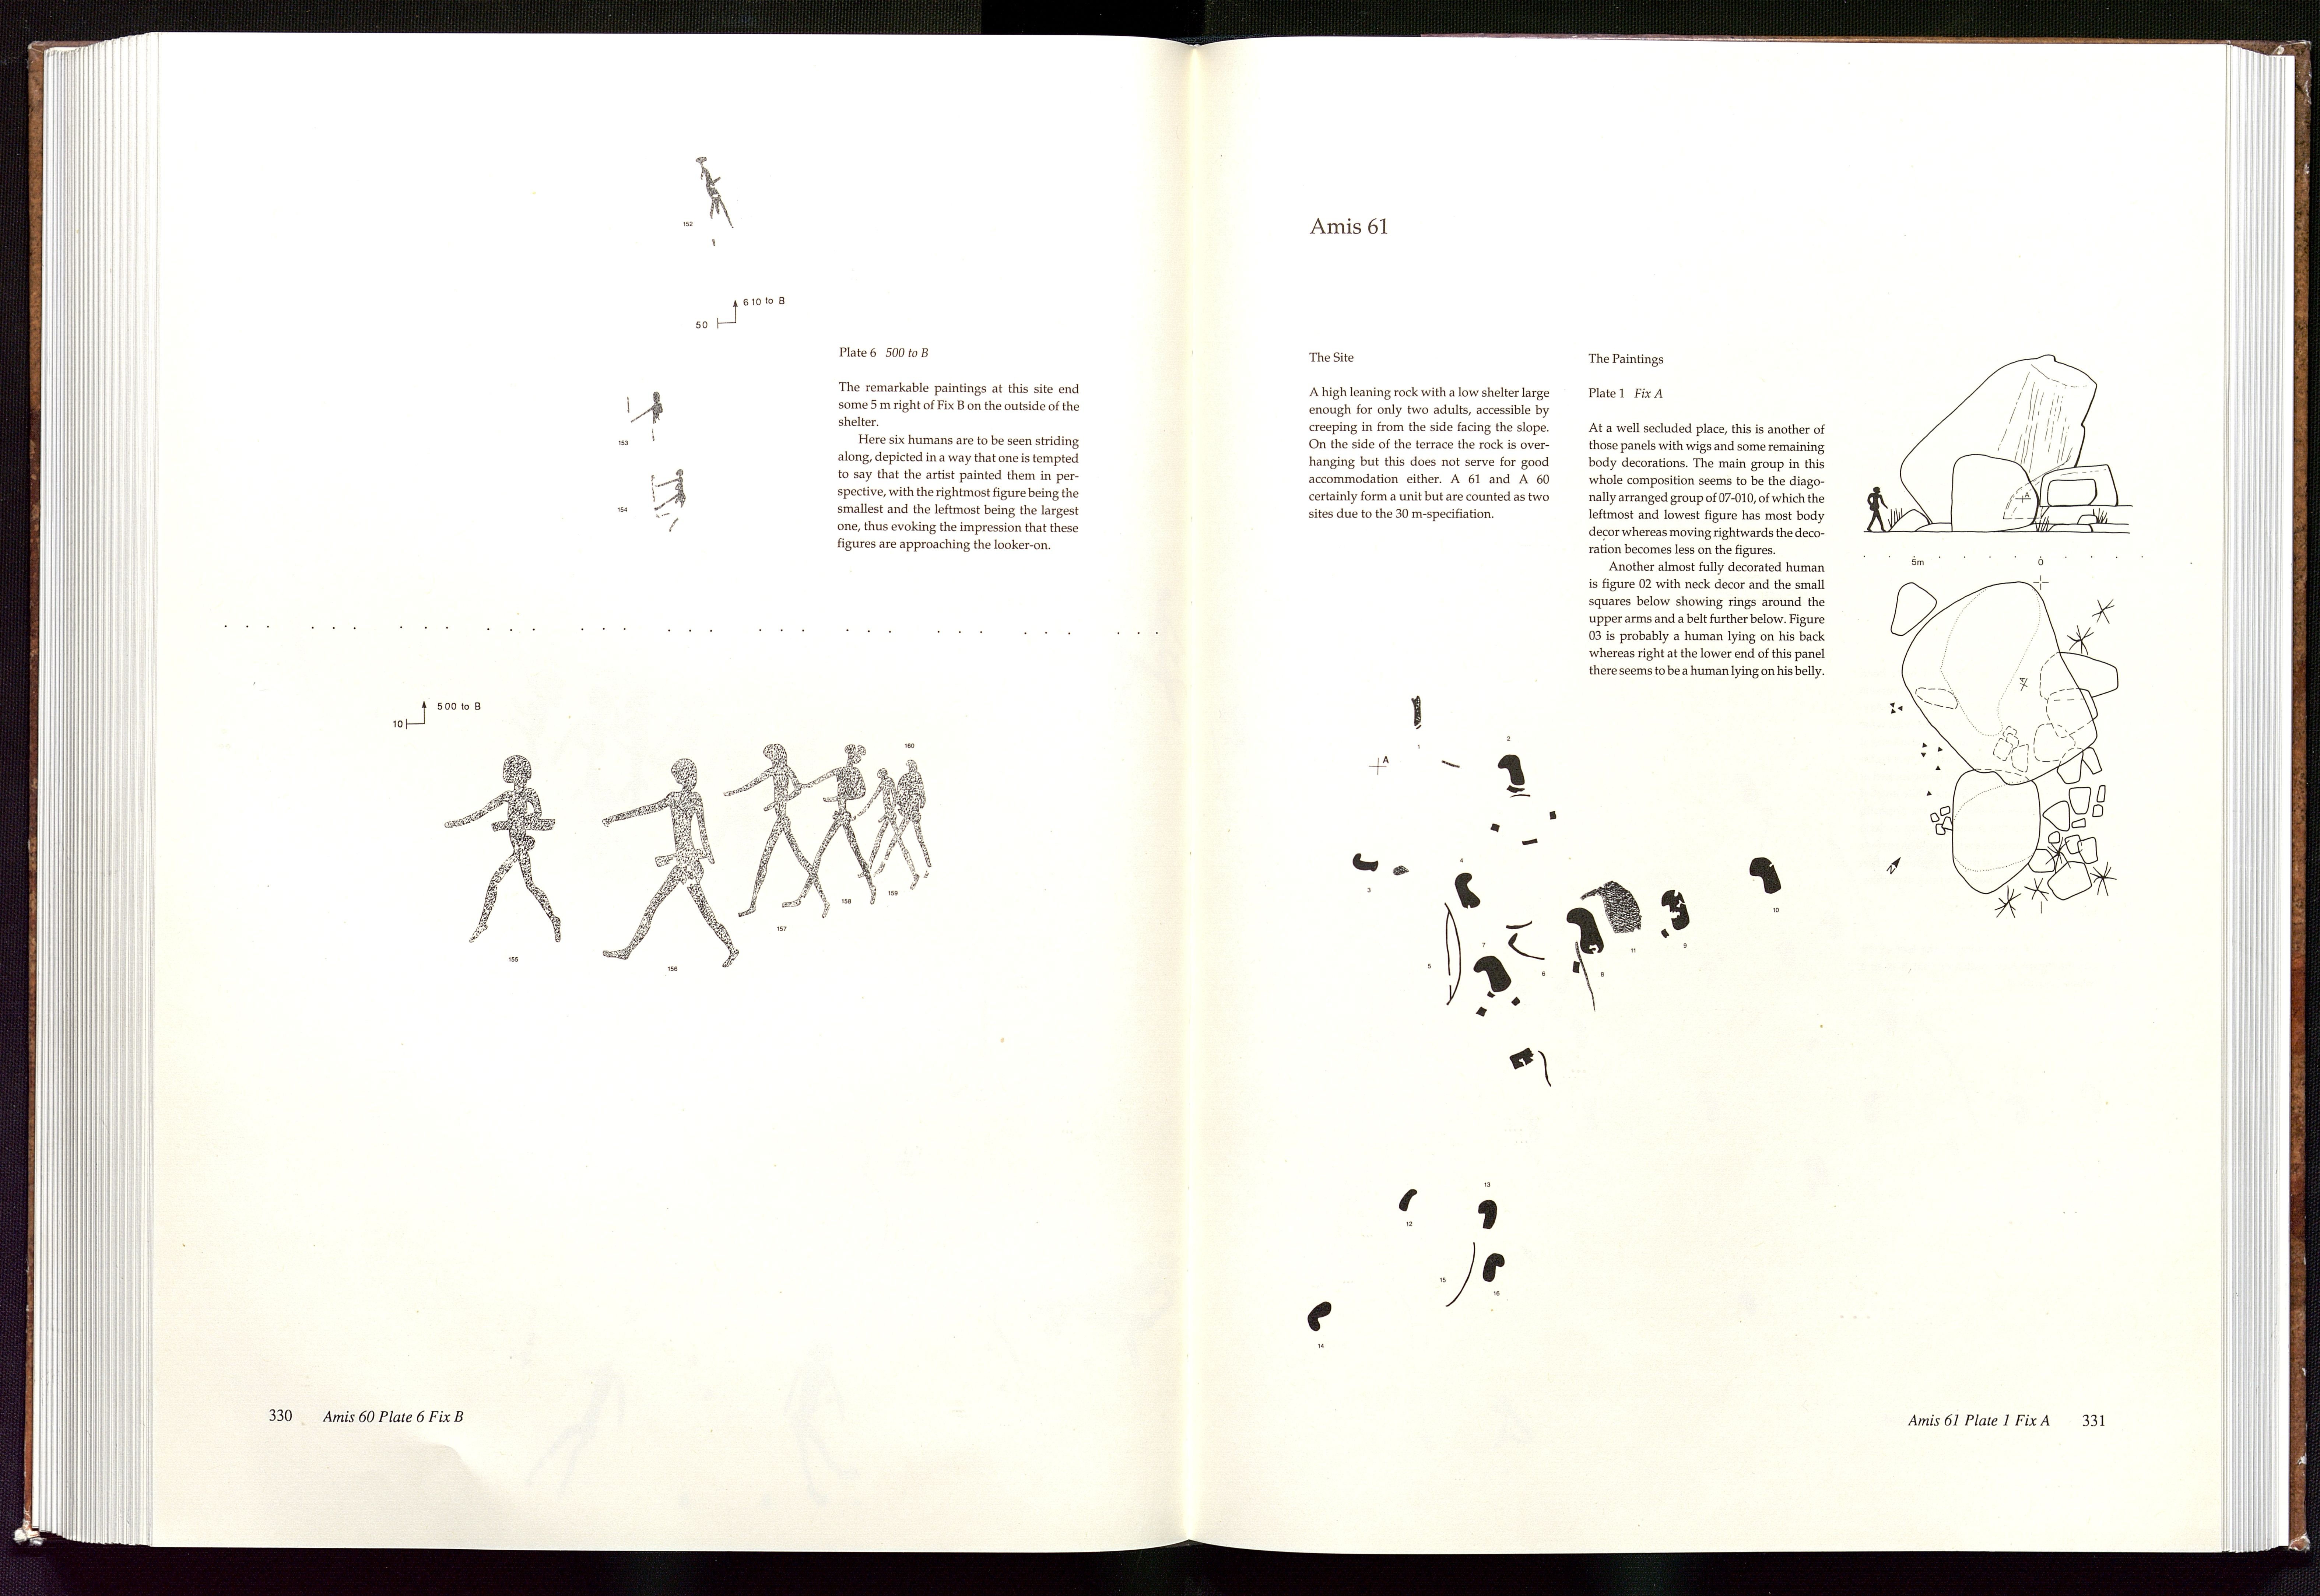human: (596, 755, 741, 974), (439, 748, 566, 946), (723, 740, 829, 925), (780, 736, 879, 914), (871, 759, 937, 882), (858, 769, 920, 893), (693, 153, 736, 247), (649, 464, 692, 533), (624, 387, 665, 441)
